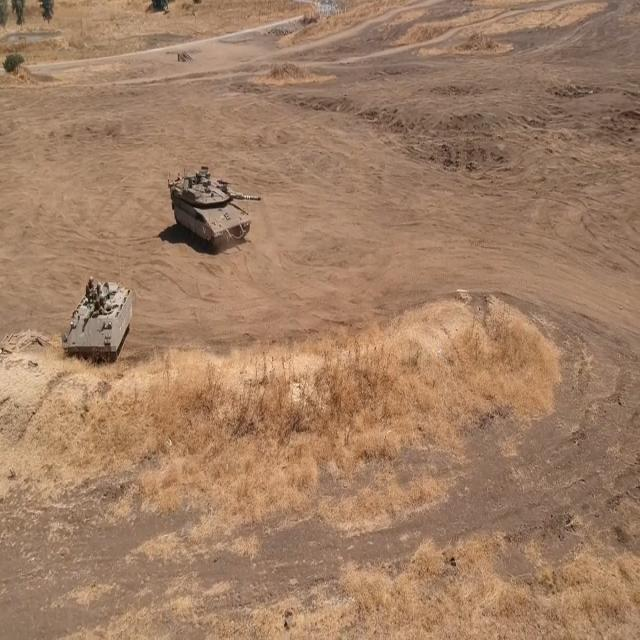tank: (165, 160, 270, 256)
